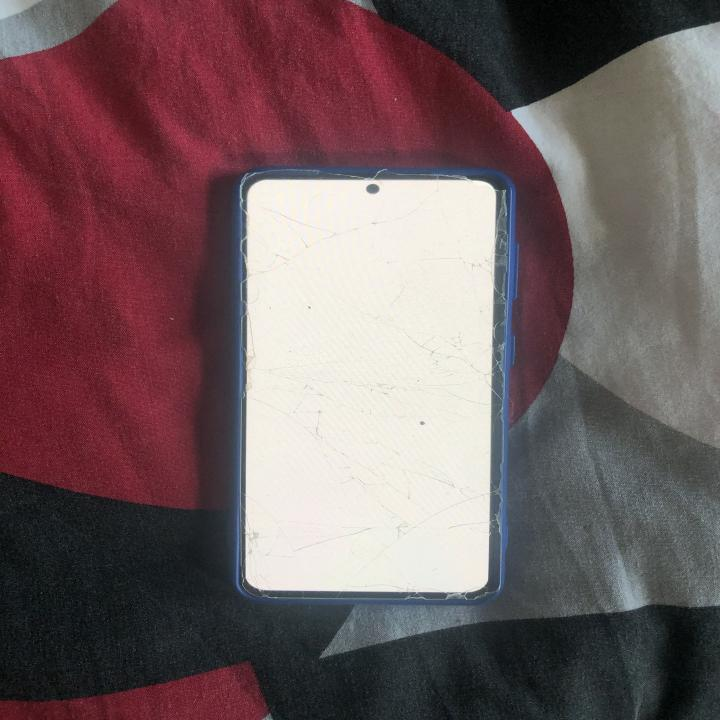Crack: (240, 176, 504, 598)
